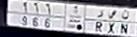6: (32, 2, 39, 28), (44, 3, 51, 29)
9: (21, 1, 28, 27)
N: (119, 8, 130, 34)
R: (94, 9, 104, 33)
X: (107, 9, 117, 34)
